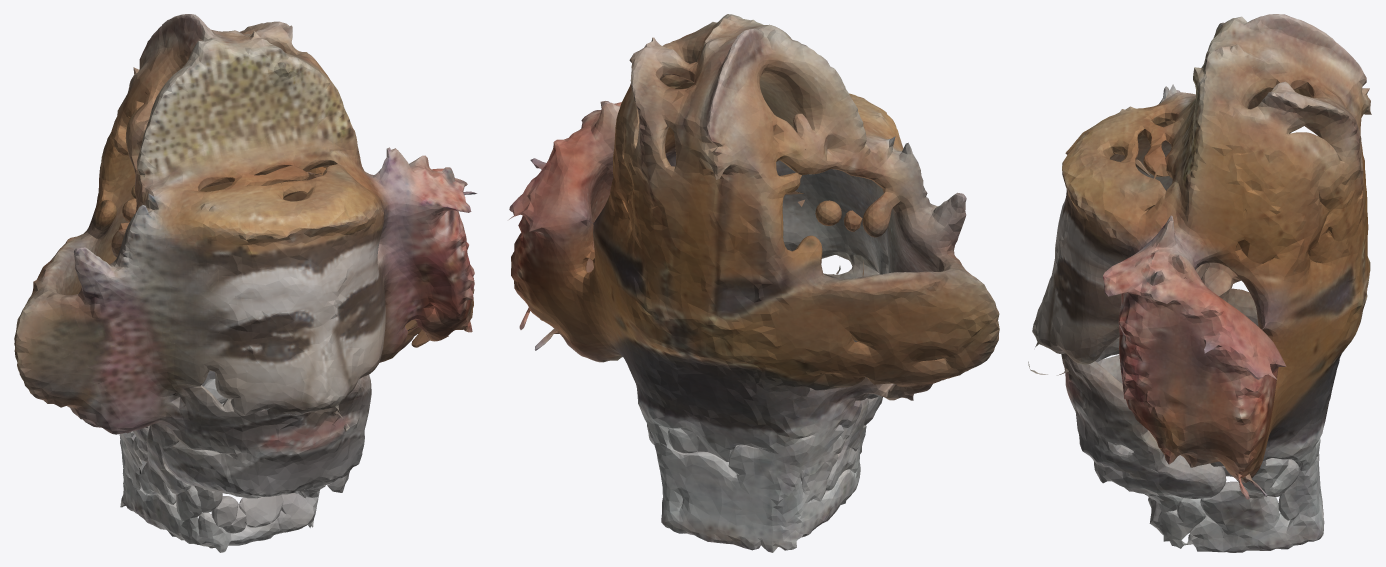
The model's file is head_puppet.glb.
The picture shows the model from 3 angles, left to right: view 1: azimuth 30°, elevation 25°; view 2: azimuth 150°, elevation 25°; view 3: azimuth 270°, elevation 25°; orthographic projection. The views are drawn at different scales.
Bounding box in the file's own units: 1.08 × 1.1 × 0.6797.
1 material, 1 textured.
